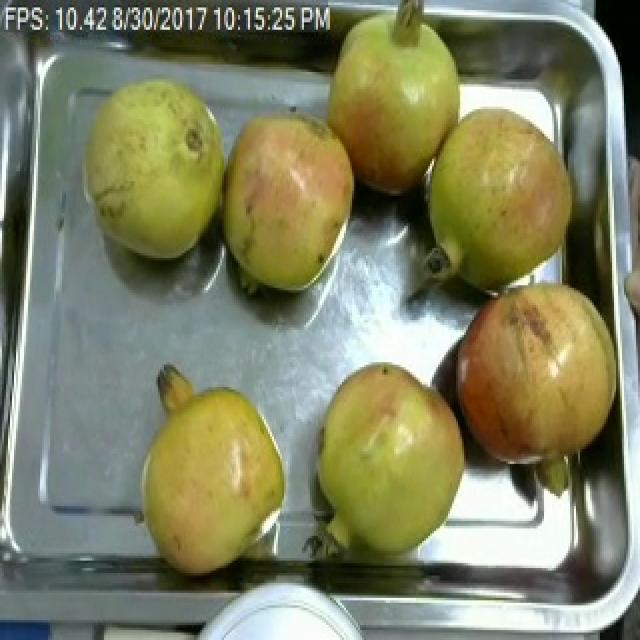fruit: (446, 270, 630, 506), (126, 362, 298, 586), (410, 91, 584, 308), (306, 350, 474, 563), (314, 2, 478, 211), (70, 67, 232, 273), (214, 94, 368, 308)
